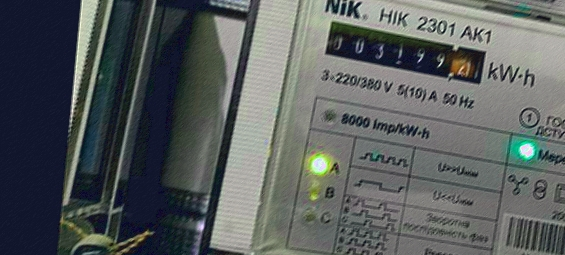0: (331, 31, 346, 51), (354, 34, 367, 54)
1: (396, 39, 407, 58)
3: (375, 40, 386, 59)
6: (456, 61, 468, 78)
9: (435, 50, 447, 69), (416, 44, 426, 63)
screen: (318, 15, 496, 92)
